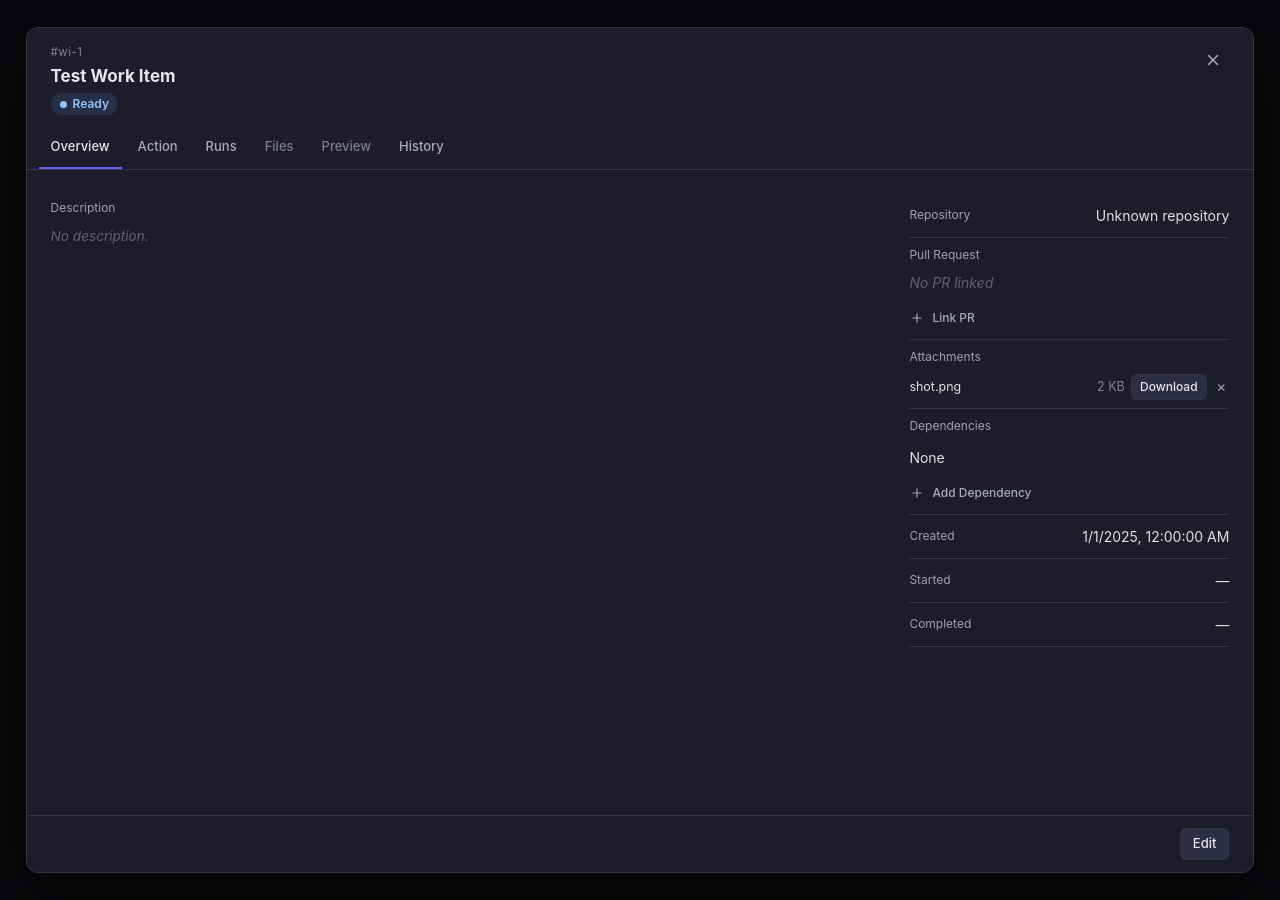
Test case: attachment failures are visible › a download that fails shows the server's message
The width and height of the screenshot is (1280, 900).
Click the button with aria-label "Download shot.png": (1169, 387) [1131, 374, 1207, 400]
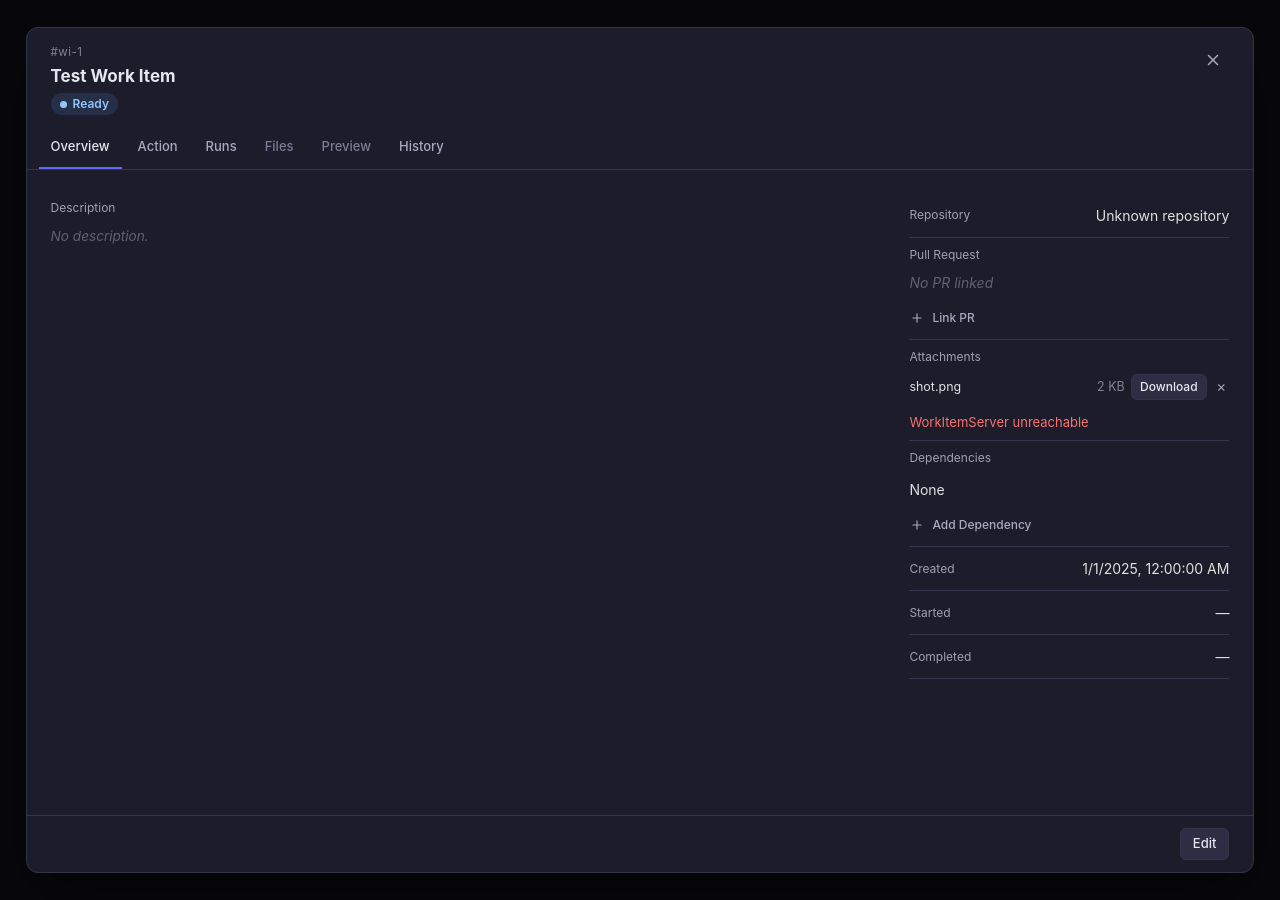
Now the panel with id "wiv2-panel-overview" shows "WorkItemServer unreachable", box [909, 414, 1089, 430]
